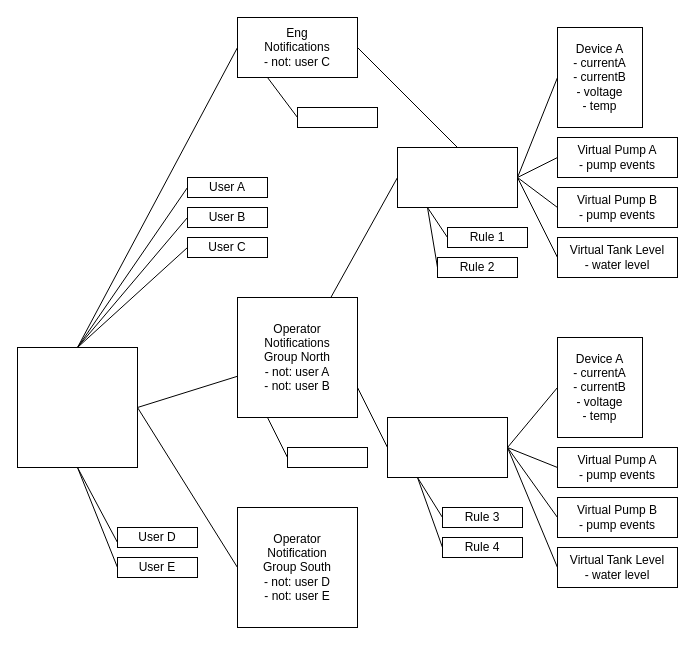
Some shapes in this 695 by 645 pixel diagram are drawn without their labels. The box of each missing label's shape, as (x1, y1, x2, y2) in pixels:
Org XYX: (16, 346, 138, 468)
Rule 5: (286, 446, 368, 468)
Rule 6: (296, 106, 378, 128)
Site JKL: (396, 146, 518, 208)
Site MNO: (386, 416, 508, 478)
